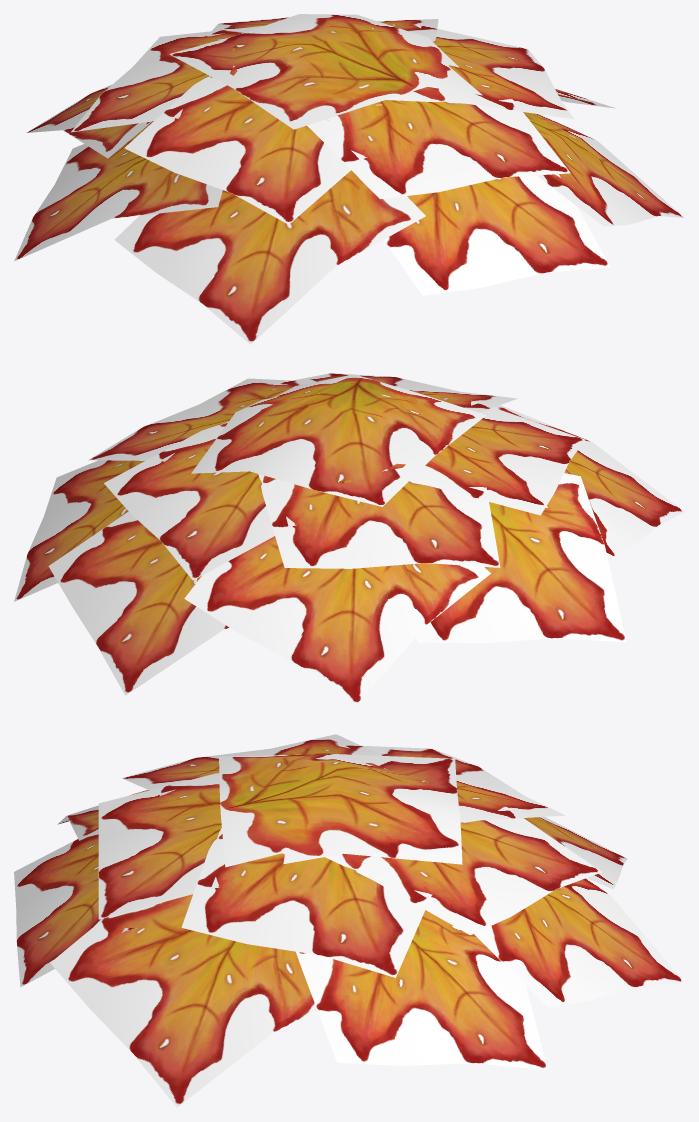
The model's file is SM_AutumnLeafPile.fbx.
3 renders of one model, top to bottom at view 1: azimuth 30°, elevation 25°; view 2: azimuth 150°, elevation 25°; view 3: azimuth 270°, elevation 25°, orthographic. The views are drawn at different scales.
Visible parts, largest first — view 1: pPlane12, pPlane15, pPlane13, pPlane2, pPlane6, pPlane14, pPlane8, pPlane3, pPlane5, pPlane11, pPlane4; view 2: pPlane11, pPlane15, pPlane14, pPlane5, pPlane10, pPlane4, pPlane6, pPlane9, pPlane12, pPlane3, pPlane2; view 3: pPlane8, pPlane15, pPlane9, pPlane3, pPlane10, pPlane4, pPlane2, pPlane13, pPlane5, pPlane6, pPlane11, pPlane12.
Part boxes in pixels (bbox=[...]): pPlane12: bbox=[114, 119, 425, 344]; pPlane15: bbox=[169, 14, 482, 129]; pPlane13: bbox=[376, 104, 610, 295]; pPlane2: bbox=[307, 99, 570, 199]; pPlane6: bbox=[124, 65, 367, 224]; pPlane14: bbox=[14, 121, 222, 261]; pPlane8: bbox=[523, 112, 684, 226]; pPlane3: bbox=[386, 24, 573, 119]; pPlane5: bbox=[71, 25, 264, 132]; pPlane11: bbox=[26, 85, 151, 158]; pPlane4: bbox=[207, 17, 438, 41]; pPlane11: bbox=[184, 536, 490, 705]; pPlane15: bbox=[191, 374, 486, 506]; pPlane14: bbox=[416, 473, 626, 643]; pPlane5: bbox=[258, 474, 500, 568]; pPlane10: bbox=[48, 511, 229, 695]; pPlane4: bbox=[104, 421, 296, 580]; pPlane6: bbox=[382, 400, 584, 515]; pPlane9: bbox=[14, 460, 144, 601]; pPlane12: bbox=[494, 405, 684, 562]; pPlane3: bbox=[88, 378, 315, 461]; pPlane2: bbox=[273, 373, 517, 412]; pPlane8: bbox=[50, 894, 317, 1107]; pPlane15: bbox=[219, 754, 462, 867]; pPlane9: bbox=[296, 910, 547, 1070]; pPlane3: bbox=[181, 828, 432, 977]; pPlane10: bbox=[474, 878, 684, 1006]; pPlane4: bbox=[325, 806, 601, 935]; pPlane2: bbox=[98, 773, 221, 919]; pPlane13: bbox=[14, 832, 136, 987]; pPlane5: bbox=[336, 745, 565, 822]; pPlane6: bbox=[122, 734, 387, 796]; pPlane11: bbox=[524, 817, 627, 889]; pPlane12: bbox=[57, 790, 148, 840].
Bounding box in the file's own units: 29.83 × 9.05 × 28.68.
